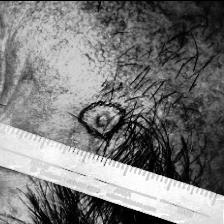Potentially Malignant Skin Tumors: (92, 110, 112, 128)
